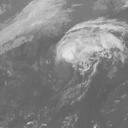cyclone: (54, 20, 118, 73)
